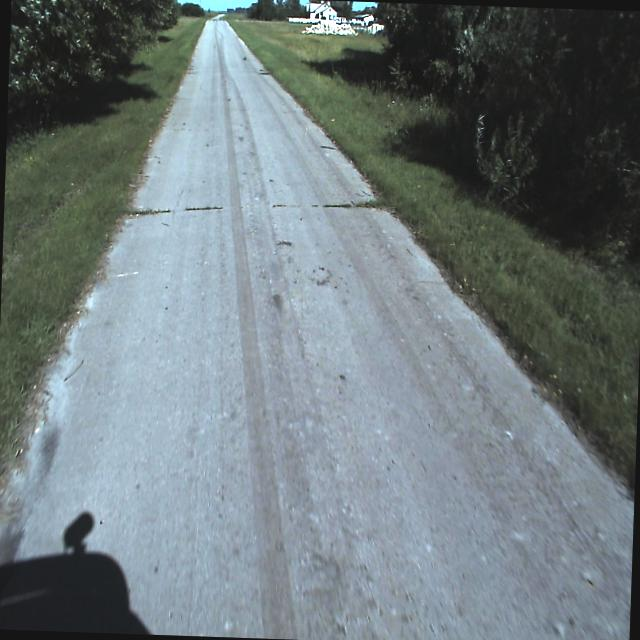road: (0, 20, 633, 640)
